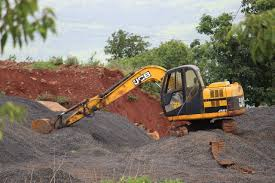excavator: (31, 65, 248, 140)
